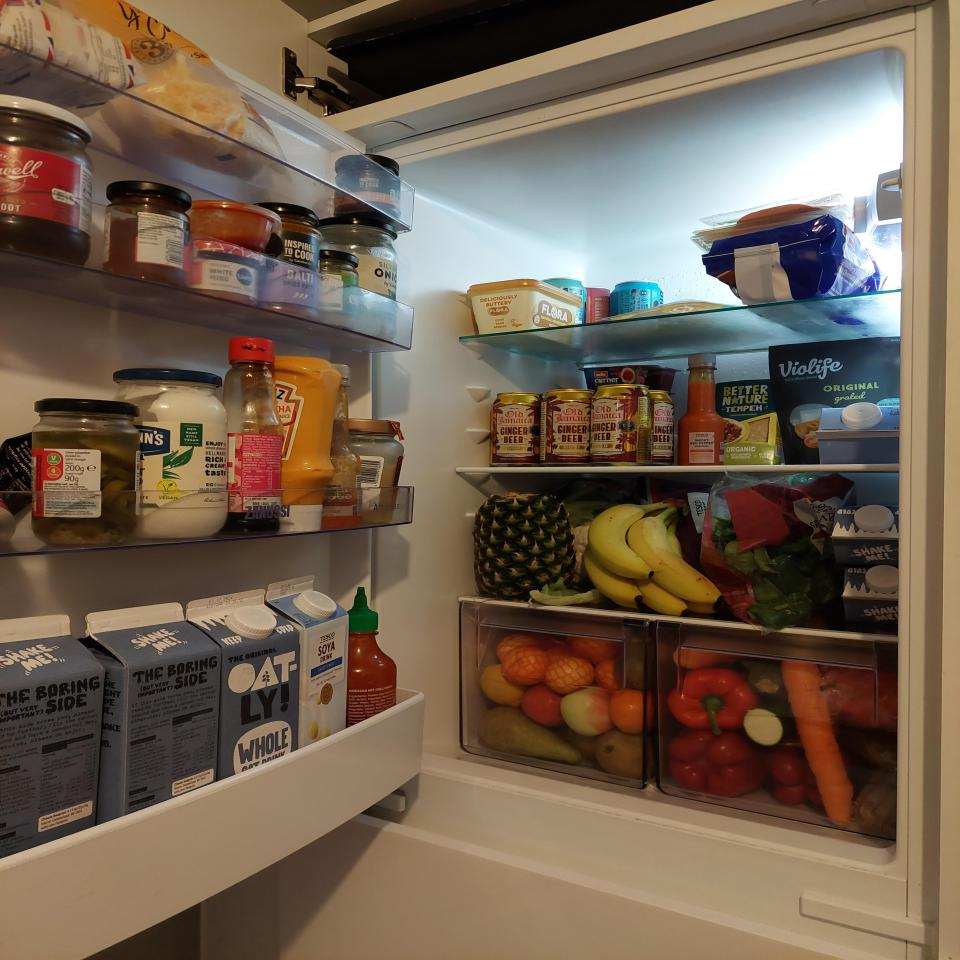Leche: (85, 602, 222, 824), (0, 614, 106, 856), (184, 589, 300, 780), (265, 574, 349, 748), (817, 402, 900, 464), (830, 504, 900, 563), (841, 565, 900, 633)
Limón: (479, 664, 525, 706)
Mantequilla: (461, 279, 583, 349)
Manzana: (561, 688, 613, 736)
Pepino: (745, 705, 797, 744)
Plátano: (582, 499, 721, 616)
Tomate: (520, 685, 568, 726)
Zanahoria: (777, 649, 860, 827), (672, 642, 763, 668)
